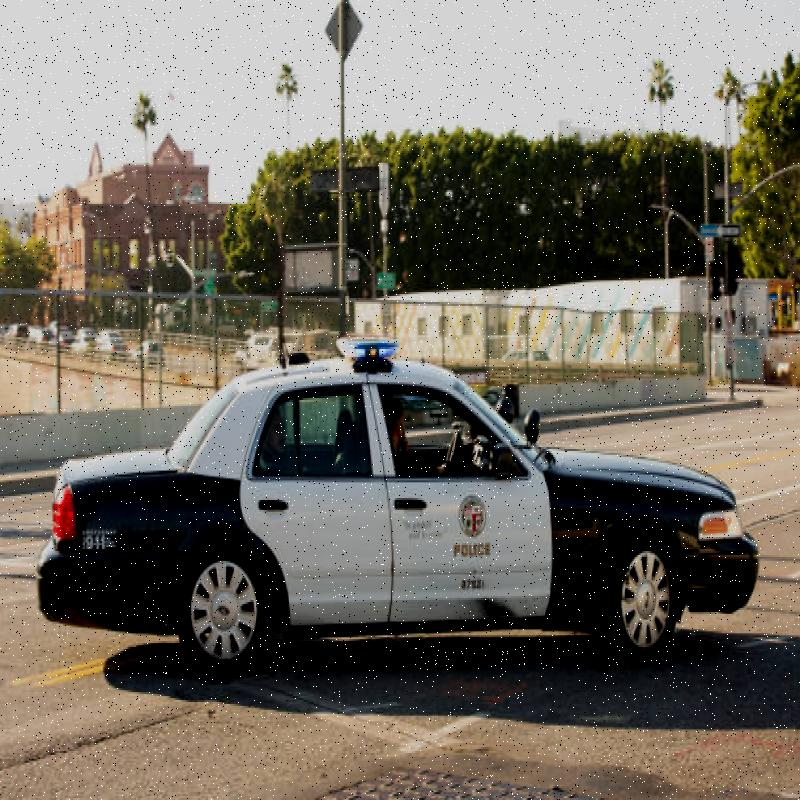AmbulanceSiren: (328, 319, 410, 390)
